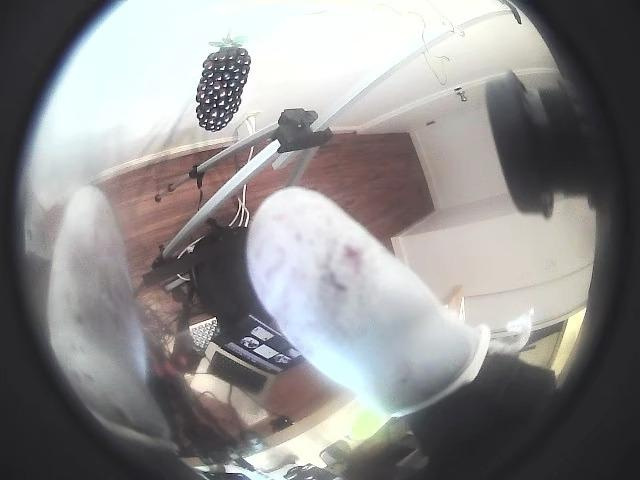berry: (197, 34, 250, 131)
gripper: (247, 187, 497, 415), (45, 187, 173, 449)
lense: (0, 0, 174, 479), (479, 0, 639, 479)
